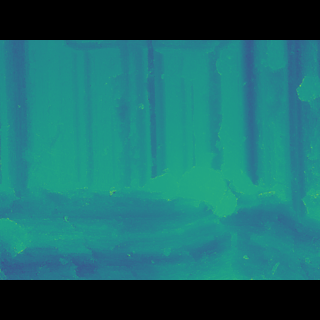Loch: (0, 160, 320, 251), (214, 70, 270, 189), (37, 69, 245, 98), (256, 69, 290, 94), (294, 97, 320, 116)
